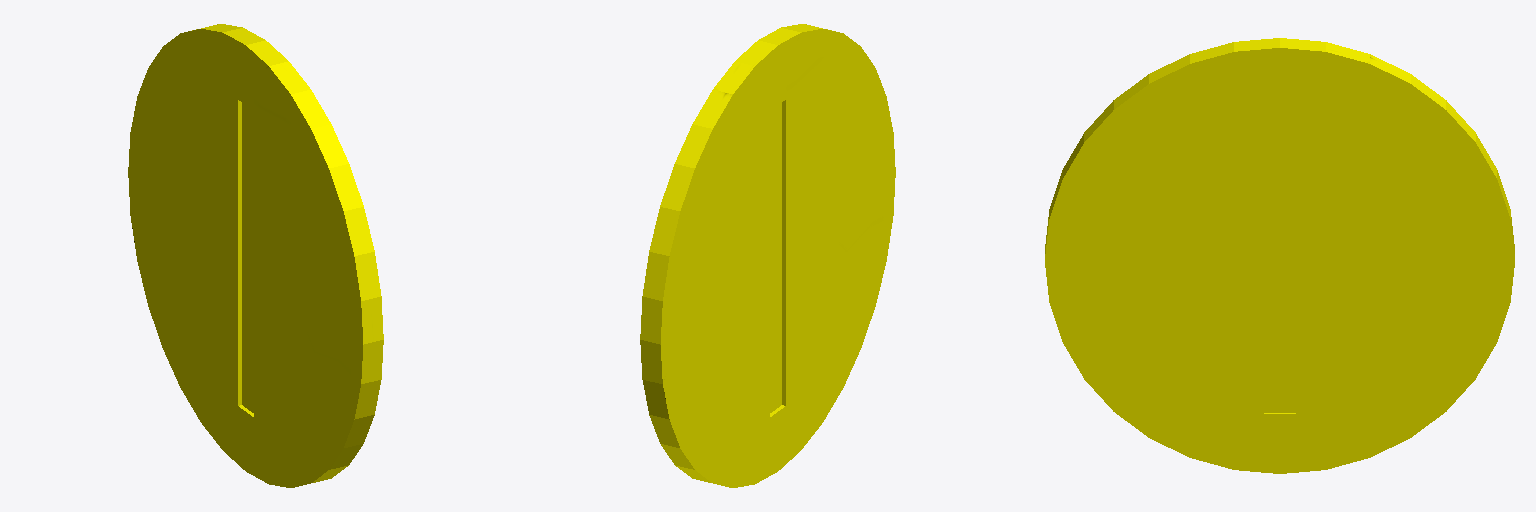
3 renders of one model, left to right at view 1: azimuth 30°, elevation 25°; view 2: azimuth 150°, elevation 25°; view 3: azimuth 270°, elevation 25°, orthographic.
Parts seen in each view (by area): view 1: 円柱; view 2: 円柱; view 3: 円柱.
Boxes of the visible parts, x1,y1,x2,y2 form: 円柱: [128, 24, 383, 487]; 円柱: [640, 24, 895, 487]; 円柱: [1045, 38, 1514, 473].
Bounding box in the file's own units: 0.1 × 2 × 2.
1 materials, 1 textured.